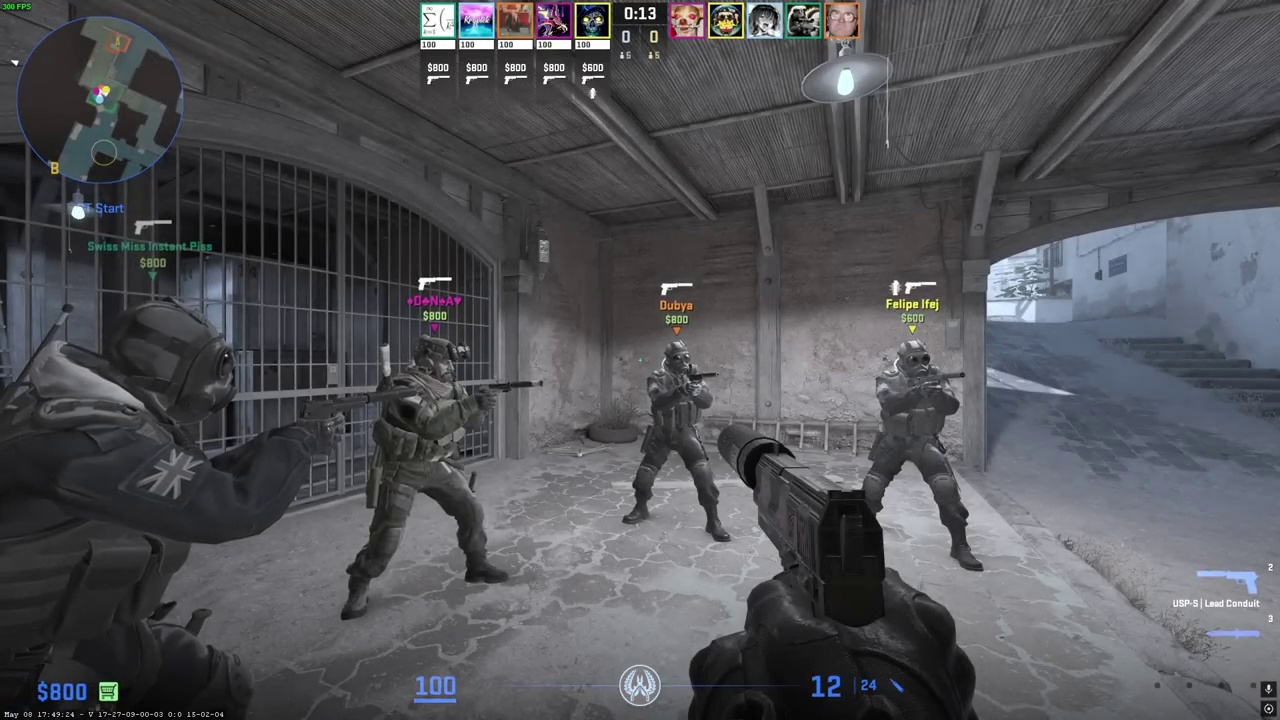CT: (0, 299, 262, 720), (353, 336, 510, 615), (864, 339, 982, 572), (627, 341, 729, 541)
